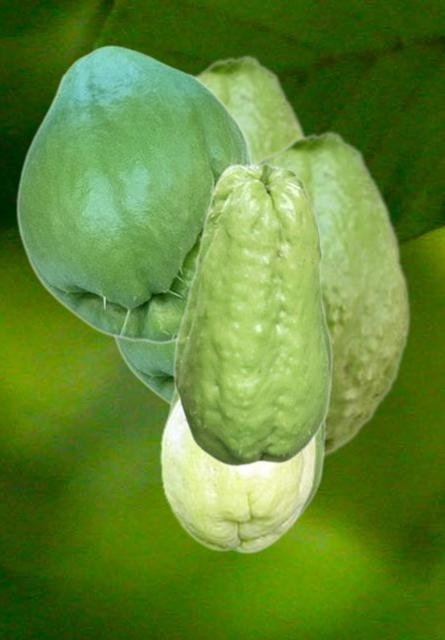sayote: (173, 129, 411, 457), (15, 45, 253, 344), (172, 162, 333, 467), (159, 395, 315, 553), (167, 386, 326, 519), (192, 53, 305, 161), (112, 338, 173, 404)
